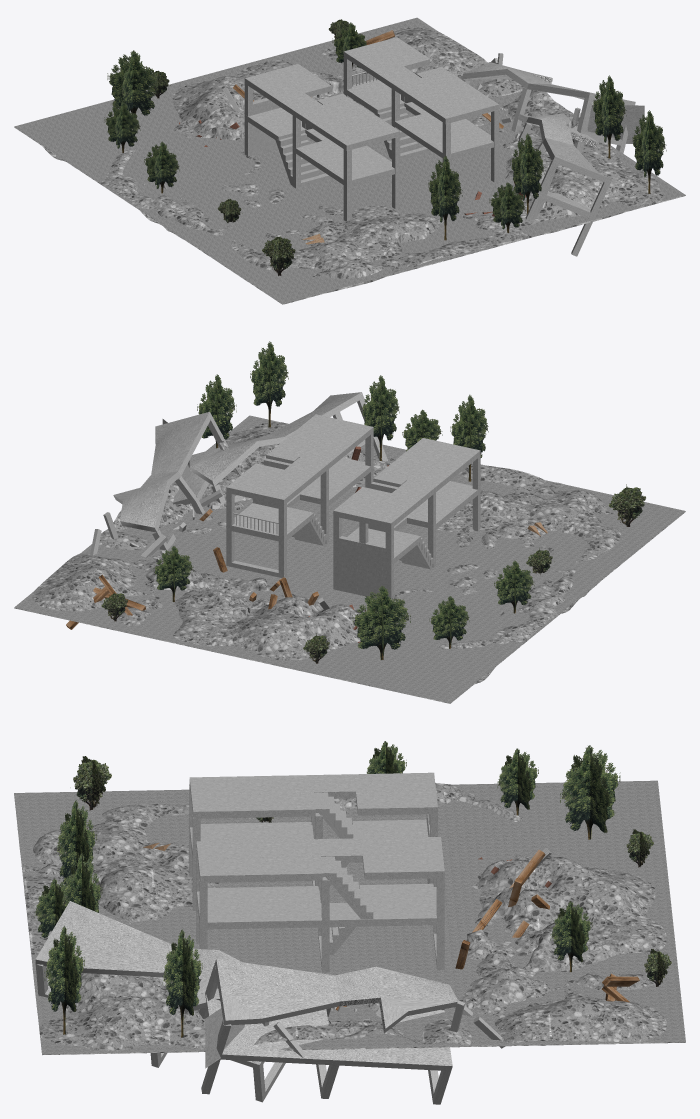
File: sssssssss.FBX
3 views of the same model, one above another, from view 1: azimuth 30°, elevation 25°; view 2: azimuth 150°, elevation 25°; view 3: azimuth 270°, elevation 25° (orthographic). The views are drawn at different scales.
Visible parts, largest first — view 1: Object005, Box021, Box01, Plane021, Plane01 (×2), Object006, Line016; view 2: Object005, Box021, Box01, Plane021, Plane01 (×2), Object006, Line016, Object003, Box035; view 3: Box021, Object005, Box01, Plane01 (×2), Plane021, Object006, Object003, Line016, Box035.
Boxes of the visible parts, x1,y1,x2,y2 form: Object005: (14,17,685,303); Box021: (14,27,685,304); Box01: (244,37,499,221); Plane021: (104,19,666,275); Plane01 (×2): (461,53,644,256); Object006: (104,23,665,240); Line016: (222,87,347,185); Object005: (14,415,685,702); Box021: (14,421,685,703); Box01: (226,414,480,600); Plane021: (101,341,648,663); Plane01 (×2): (90,392,387,563); Object006: (153,342,534,658); Line016: (317,474,433,610); Object003: (199,509,318,609); Box035: (66,574,145,629); Box021: (14,783,685,1055); Object005: (14,780,685,1054); Box01: (189,772,444,972); Plane01 (×2): (35,901,505,1104); Plane021: (34,741,671,1037); Object006: (34,742,620,1037); Object003: (335,849,549,1010); Line016: (313,792,551,886); Box035: (601,973,639,1002).
Bounding box in the file's own units: 35.46 × 10.69 × 35.07.
